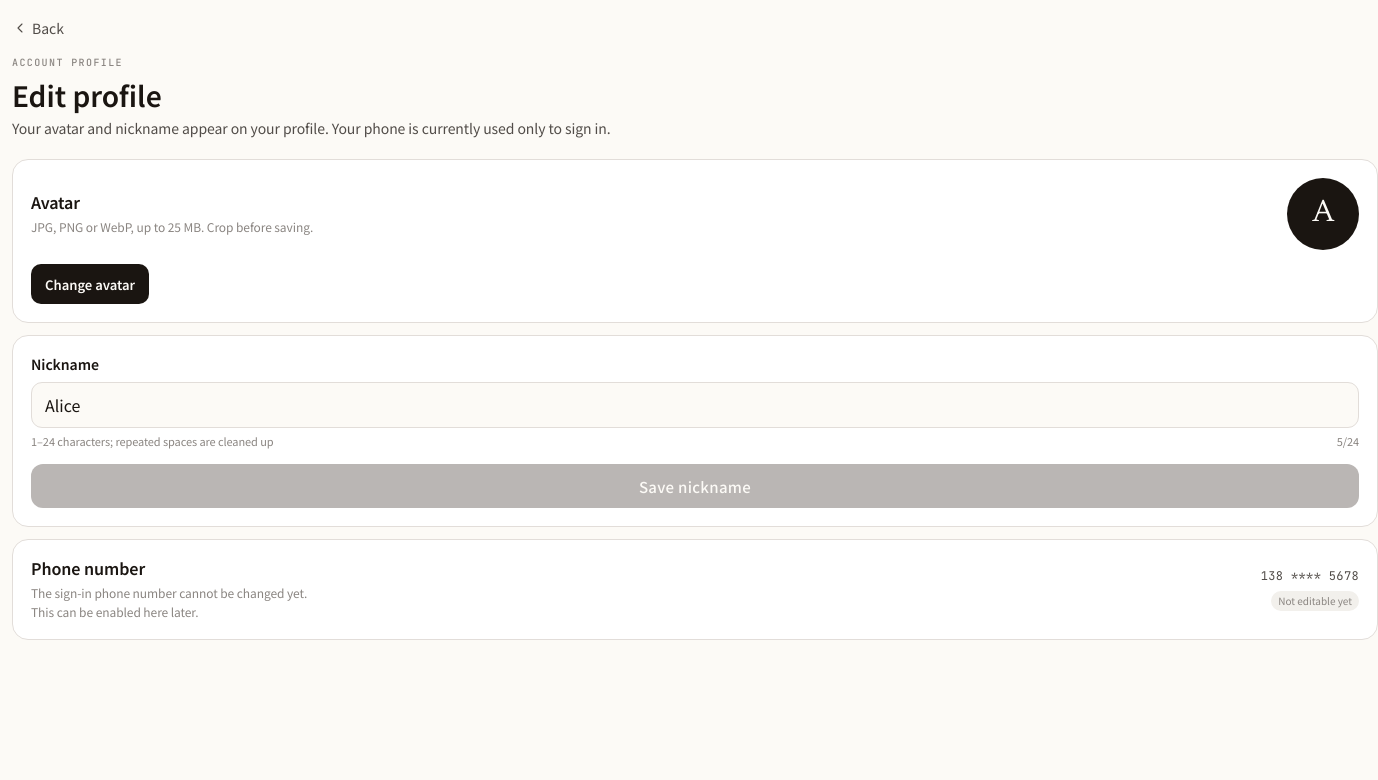
EditProfilePage › keeps nickname input available after a save error
Step 1. Replace the text in the field labelled "Nickname" with "New name" → coordinates (695, 405), box [31,382,1359,428]
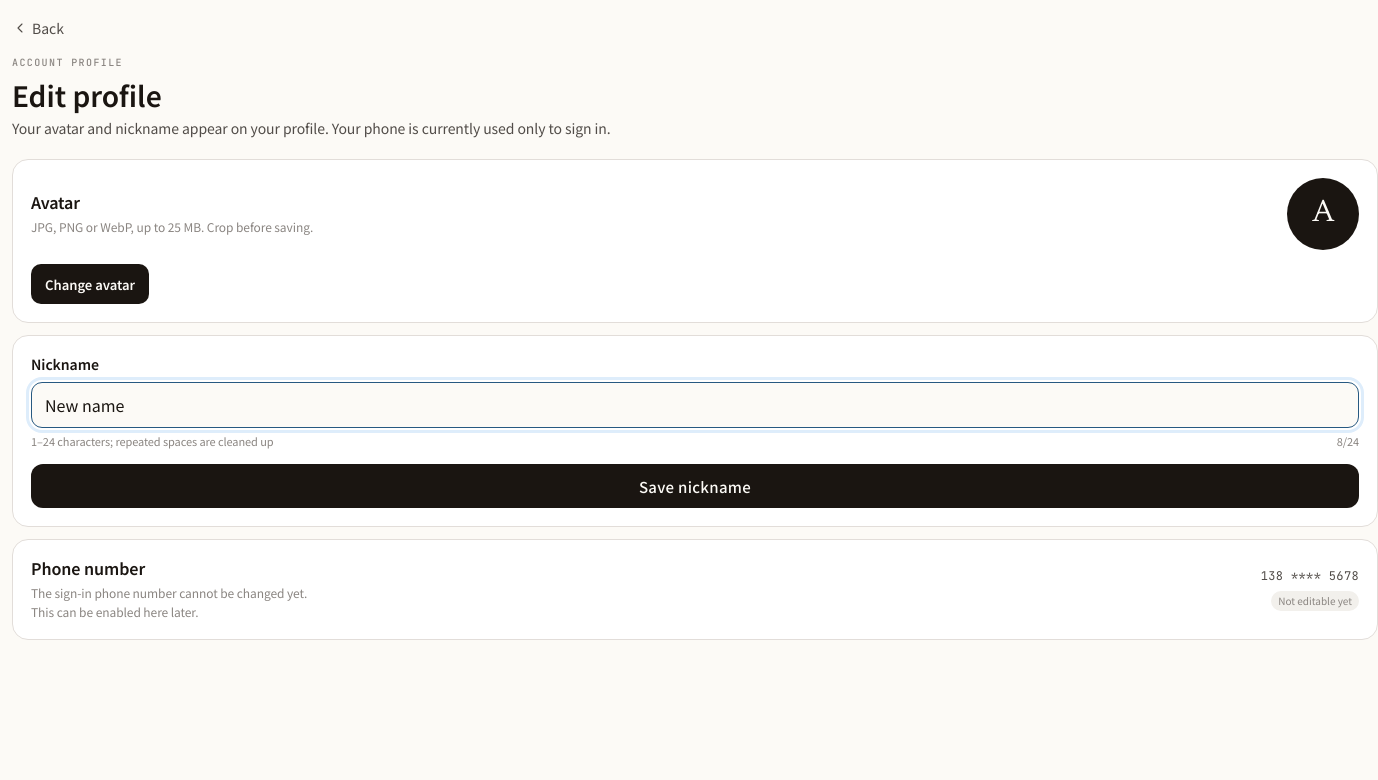
Step 2. Click the button "Save nickname" → coordinates (695, 486), box [31,464,1359,508]
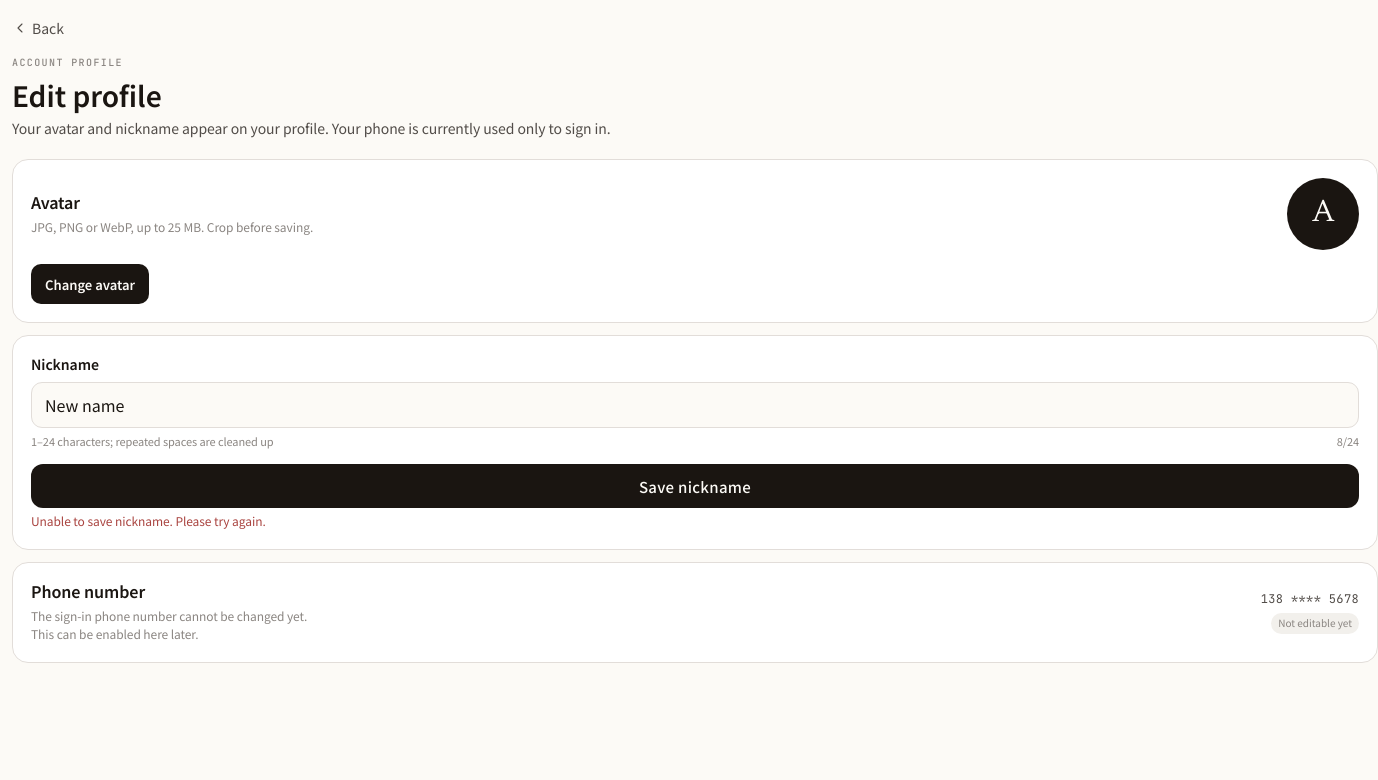
Expected: the message shows "Unable to save nickname", [31,512,266,529]
